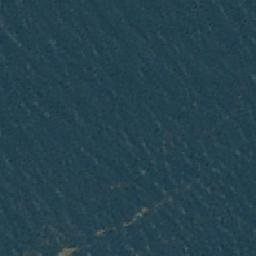debris: (131, 207, 149, 219), (94, 228, 109, 236), (120, 220, 131, 227)
